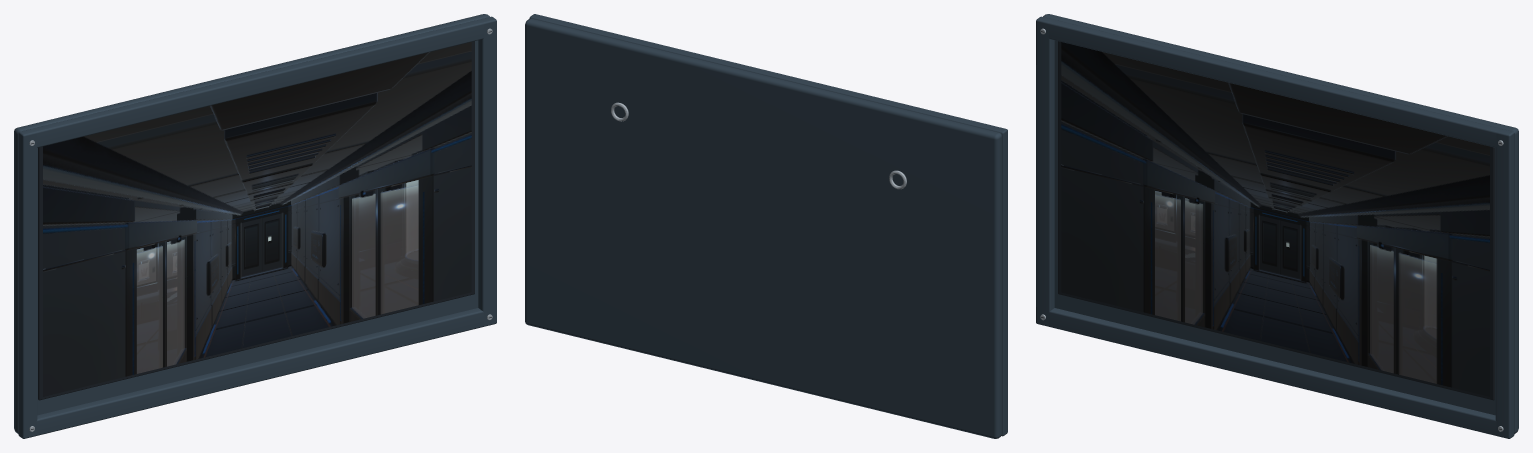
The model's file is CAM_02_WallReference.fbx.
The picture shows the model from 3 angles, left to right: view 1: azimuth 30°, elevation 25°; view 2: azimuth 150°, elevation 25°; view 3: azimuth 330°, elevation 25°; orthographic projection.
Visible parts, largest first — view 1: CAM_02_WallReference.001; view 2: CAM_02_WallReference.001; view 3: CAM_02_WallReference.001.
Boxes of the visible parts, box(x1,y1,x2,y2) form: CAM_02_WallReference.001: box(14, 14, 496, 438); CAM_02_WallReference.001: box(525, 14, 1007, 438); CAM_02_WallReference.001: box(1036, 14, 1518, 438).
Size of the model in its own units: 92.1 by 56.5 by 4.9.
